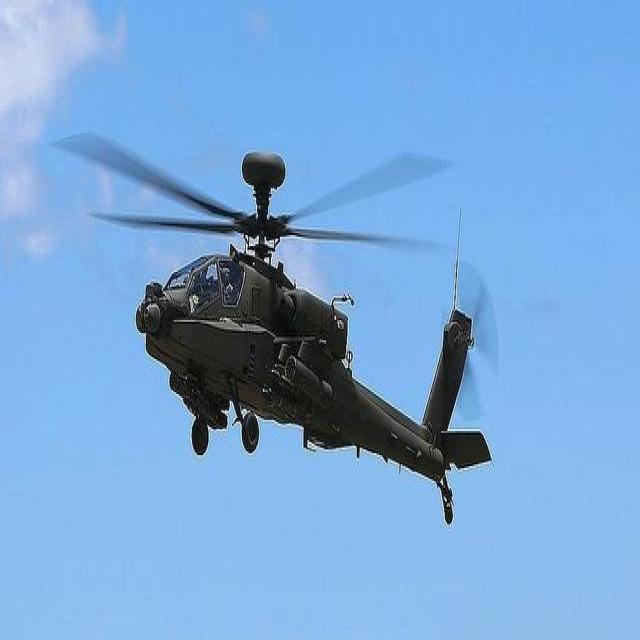MIL_HELO: (74, 108, 502, 532)
